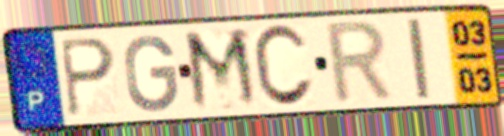C: (250, 21, 318, 111)
G: (122, 32, 181, 115)
I: (402, 15, 433, 103)
M: (181, 25, 264, 114)
P: (56, 36, 119, 120)
R: (324, 17, 398, 108)
